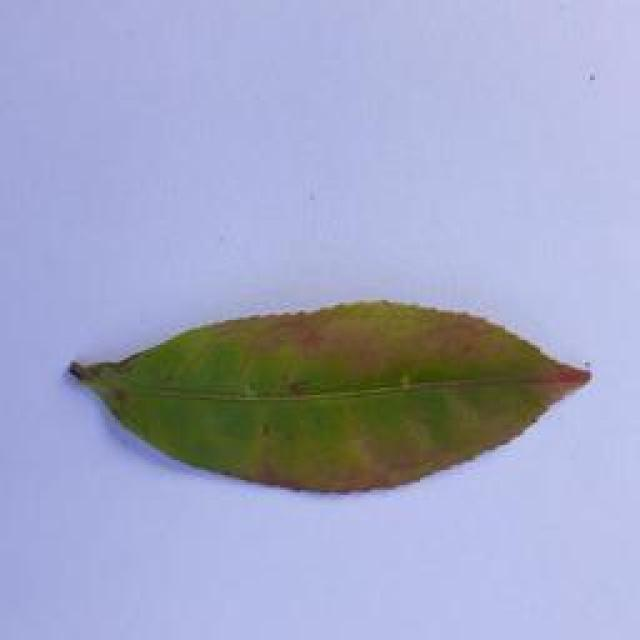Red Leaf Spot: (56, 301, 612, 516)
